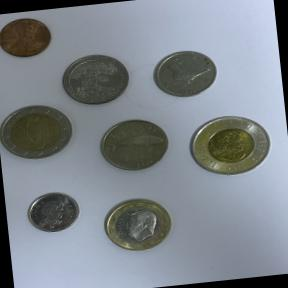1 Euro-B: (94, 190, 181, 258)
2 Euro-B: (0, 100, 80, 168)
Canada-10cent-B: (22, 186, 86, 239)
Canada-2Dollar-B: (180, 104, 284, 188)
Croatia-2Kune-B: (91, 112, 176, 180)
US-1cent-B: (0, 11, 61, 68)
US-25cent-B: (57, 47, 134, 111)
